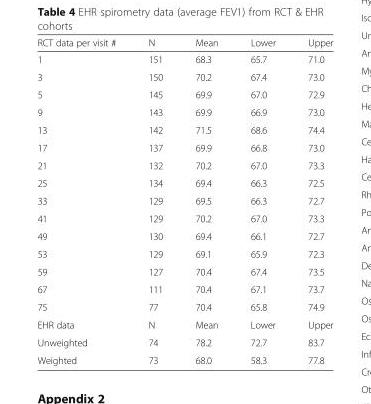table: (36, 36, 332, 365)
table column: (36, 36, 131, 365), (233, 36, 291, 365), (178, 36, 233, 365), (131, 36, 178, 365), (291, 36, 332, 365)
table column header: (36, 36, 332, 50)
table row: (36, 67, 332, 85), (36, 85, 332, 103), (36, 120, 332, 138), (36, 138, 332, 156), (36, 173, 332, 191), (36, 191, 332, 209), (36, 209, 332, 227), (36, 244, 332, 262), (36, 262, 332, 280), (36, 297, 332, 315), (36, 315, 332, 333), (36, 50, 332, 67), (36, 103, 332, 120), (36, 156, 332, 173), (36, 227, 332, 244), (36, 280, 332, 297), (36, 333, 332, 350), (36, 350, 332, 365), (36, 36, 332, 50)
